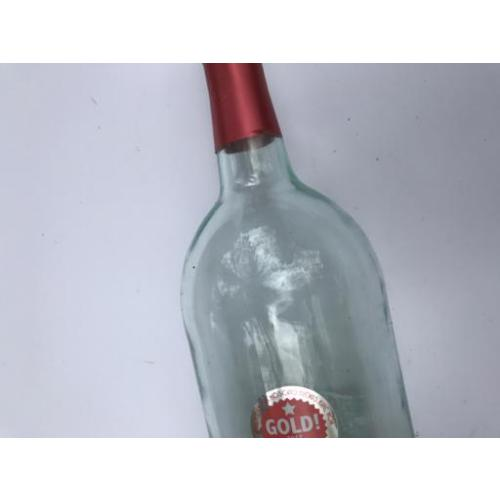glass: (178, 62, 419, 438)
